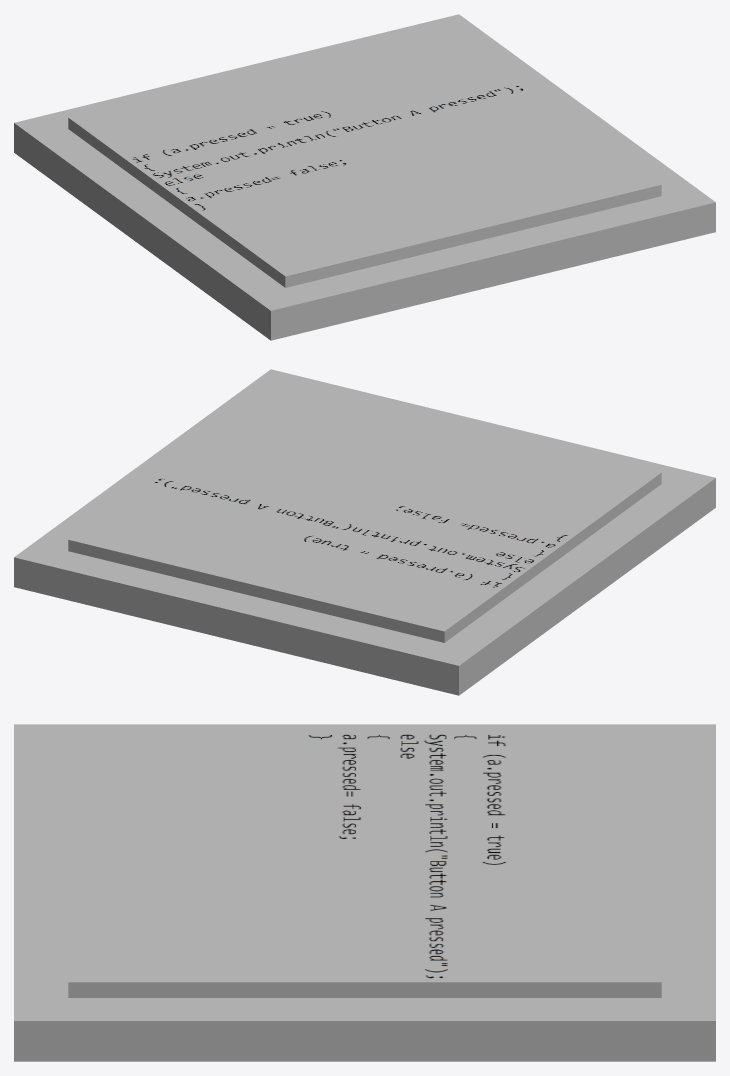
File: lvl2-tile3.fbx
3 renders of one model, top to bottom at view 1: azimuth 30°, elevation 25°; view 2: azimuth 150°, elevation 25°; view 3: azimuth 270°, elevation 25°, orthographic. The views are drawn at different scales.
Parts seen in each view (by area): view 1: Cube; view 2: Cube; view 3: Cube.
Part boxes in pixels (x1=…): Cube: x1=14, y1=14, x2=715, y2=340; Cube: x1=14, y1=369, x2=715, y2=695; Cube: x1=14, y1=724, x2=715, y2=1061.
Size of the model in its own units: 200 by 17.74 by 200.
